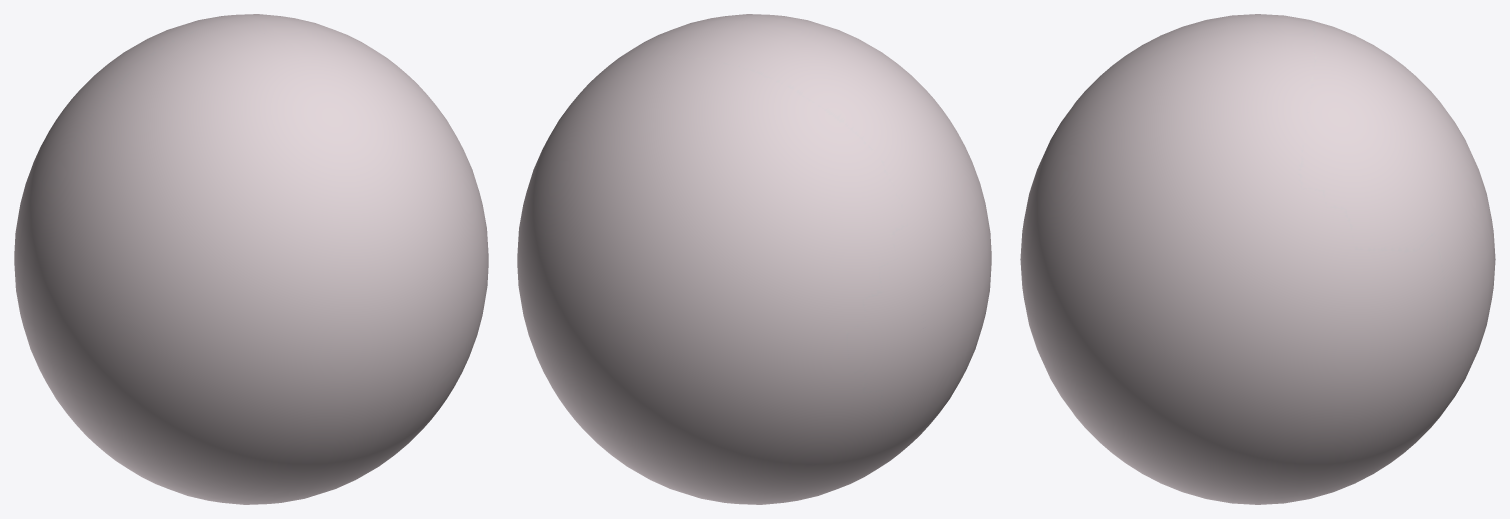
The model's file is sun.fbx.
3 views of the same model, side by side, from view 1: azimuth 30°, elevation 25°; view 2: azimuth 150°, elevation 25°; view 3: azimuth 270°, elevation 25° (orthographic).
Visible parts, largest first — view 1: root; view 2: root; view 3: root.
Part boxes in pixels (<box>): root: <box>14,14,488,504</box>; root: <box>517,14,991,504</box>; root: <box>1020,14,1495,504</box>.
Size of the model in its own units: 0.3007 by 0.3132 by 0.3007.
Materials: 1 (1 with a texture image).
